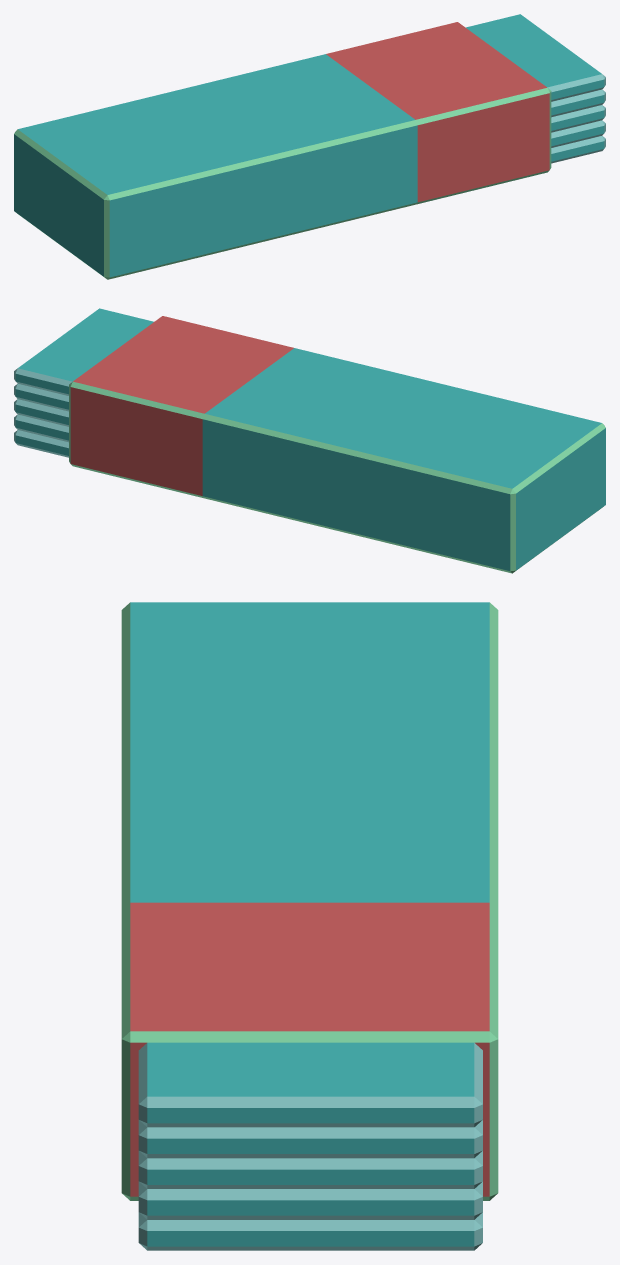
The model's file is bubbleGUM.fbx.
3 views of the same model, one above another, from view 1: azimuth 30°, elevation 25°; view 2: azimuth 150°, elevation 25°; view 3: azimuth 270°, elevation 25° (orthographic). The views are drawn at different scales.
Visible parts, largest first — view 1: polySurface61, polySurface60, Test14, Test12, Test11, Test9, Test7, Test3, Test5, Test8, Test4, Test10 (+1 smaller); view 2: polySurface61, polySurface60, Test14, Test12, Test11, Test9, Test7, Test3, Test5, Test4, Test10, Test6 (+1 smaller); view 3: polySurface61, polySurface60, Test12, Test14, Test11, Test5, Test9, Test7, Test3, Test6, Test4, Test10 (+1 smaller).
Part boxes in pixels (box(x1,y1,x2,y2)): polySurface61: box(14, 54, 417, 277); polySurface60: box(326, 22, 549, 202); Test14: box(14, 87, 551, 279); Test12: box(466, 14, 604, 99); Test11: box(547, 74, 605, 101); Test9: box(551, 89, 605, 117); Test7: box(551, 105, 605, 132); Test3: box(551, 136, 605, 163); Test5: box(551, 120, 605, 147); Test8: box(551, 110, 604, 130); Test4: box(551, 141, 604, 161); Test10: box(551, 95, 604, 115); polySurface61: box(202, 348, 605, 570); polySurface60: box(70, 316, 293, 495); Test14: box(69, 381, 605, 573); Test12: box(15, 308, 153, 394); Test11: box(14, 368, 71, 395); Test9: box(14, 383, 68, 411); Test7: box(14, 399, 68, 426); Test3: box(14, 430, 68, 457); Test5: box(14, 414, 68, 442); Test4: box(15, 435, 68, 455); Test10: box(15, 389, 68, 409); Test6: box(15, 420, 68, 440); polySurface61: box(130, 602, 489, 902); polySurface60: box(130, 902, 489, 1196); Test12: box(147, 1042, 474, 1123); Test14: box(121, 602, 498, 1200); Test11: box(138, 1043, 482, 1127); Test5: box(138, 1181, 482, 1219); Test9: box(138, 1120, 482, 1158); Test7: box(138, 1151, 482, 1188); Test3: box(138, 1212, 482, 1250); Test6: box(147, 1200, 474, 1215); Test4: box(147, 1231, 474, 1246); Test10: box(147, 1138, 474, 1153).
Size of the model in its own units: 192 by 30.68 by 61.78.
